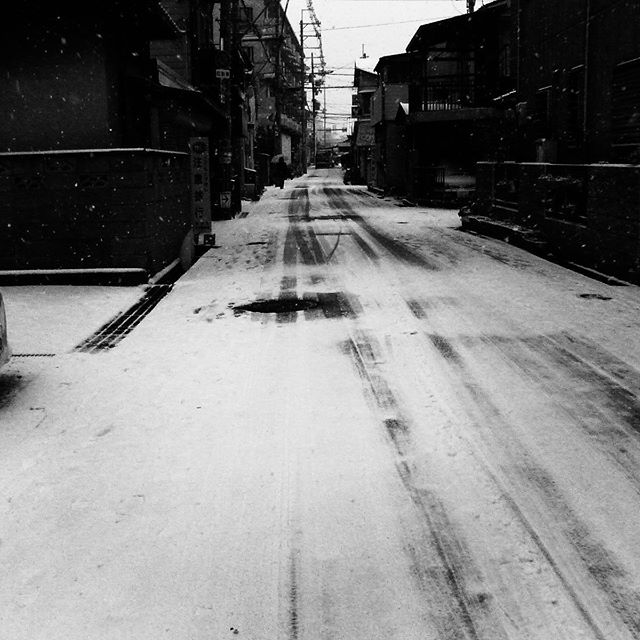building: (5, 3, 303, 267), (476, 1, 640, 270), (353, 7, 490, 200)
street: (95, 179, 542, 640)
